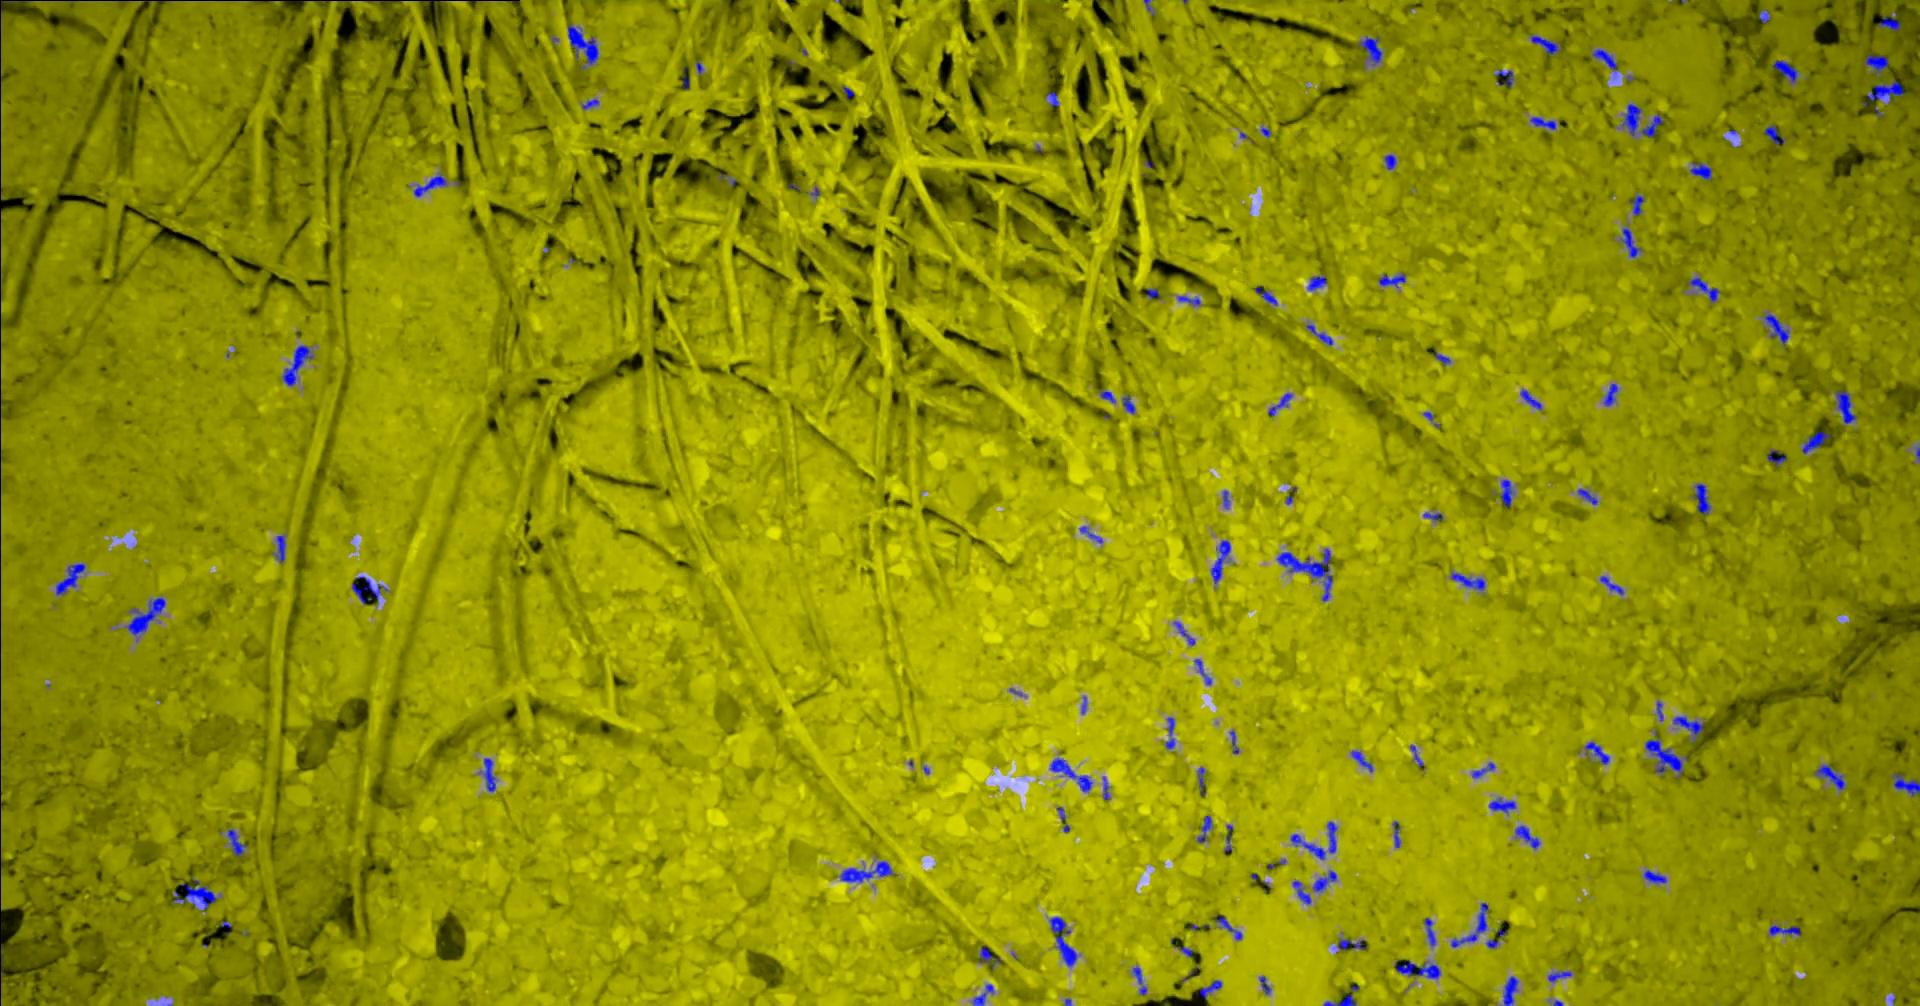ant: (1276, 547, 1332, 601), (1644, 729, 1683, 776), (1290, 821, 1336, 859), (1450, 902, 1487, 948), (126, 597, 165, 635), (1050, 757, 1092, 793), (173, 876, 216, 909), (1049, 916, 1077, 967), (281, 345, 312, 385), (568, 23, 598, 64), (839, 860, 891, 882), (1863, 79, 1903, 105), (350, 575, 387, 605), (55, 563, 85, 594), (1210, 540, 1230, 583), (1394, 959, 1440, 978), (1688, 277, 1719, 302), (1763, 312, 1788, 344), (1672, 716, 1703, 742), (1815, 763, 1845, 789), (413, 174, 446, 196), (1357, 36, 1382, 65), (1323, 984, 1357, 1005), (1835, 391, 1857, 423), (1801, 431, 1830, 453), (1620, 103, 1641, 135), (1620, 227, 1642, 257), (1529, 34, 1559, 55), (1514, 824, 1539, 848), (1215, 915, 1241, 939), (1450, 572, 1484, 589), (1267, 392, 1291, 417), (1591, 48, 1617, 71), (1771, 60, 1797, 83), (1583, 741, 1609, 763), (1305, 324, 1332, 345), (1693, 483, 1710, 514), (1893, 774, 1919, 795), (1864, 55, 1888, 76), (227, 828, 246, 855), (1641, 114, 1662, 137), (1520, 387, 1542, 410), (1173, 621, 1194, 645), (1312, 870, 1336, 890), (1192, 658, 1211, 683), (971, 983, 993, 1005), (1599, 575, 1623, 594), (1291, 880, 1310, 904), (1502, 976, 1517, 1005), (1488, 796, 1515, 813), (1255, 285, 1276, 305), (1351, 749, 1371, 771), (979, 946, 1001, 967), (1197, 981, 1222, 998), (1529, 116, 1559, 130), (483, 758, 495, 791), (1878, 11, 1900, 30), (1689, 161, 1710, 180), (1498, 479, 1514, 506), (1079, 525, 1102, 542), (1196, 815, 1211, 842), (1131, 967, 1145, 995), (1763, 124, 1783, 144), (1768, 923, 1801, 935), (1378, 273, 1404, 287), (1470, 762, 1495, 777), (1766, 448, 1785, 466), (1577, 488, 1597, 504), (1164, 716, 1175, 749), (1423, 917, 1435, 946), (1057, 807, 1069, 832), (1643, 869, 1666, 883), (1495, 69, 1512, 86), (1628, 196, 1644, 215), (1431, 348, 1450, 365), (1603, 384, 1617, 405), (1307, 276, 1327, 290), (1223, 824, 1233, 852), (1337, 939, 1365, 949), (274, 535, 284, 561), (1121, 395, 1135, 413), (1547, 970, 1571, 981), (1177, 295, 1200, 305), (1098, 387, 1115, 401), (1258, 976, 1270, 995), (1229, 730, 1238, 753), (1392, 821, 1399, 847), (1197, 767, 1204, 795), (1384, 154, 1396, 169), (1757, 9, 1770, 22), (1046, 91, 1058, 105), (1145, 288, 1161, 298), (1423, 512, 1443, 520)
